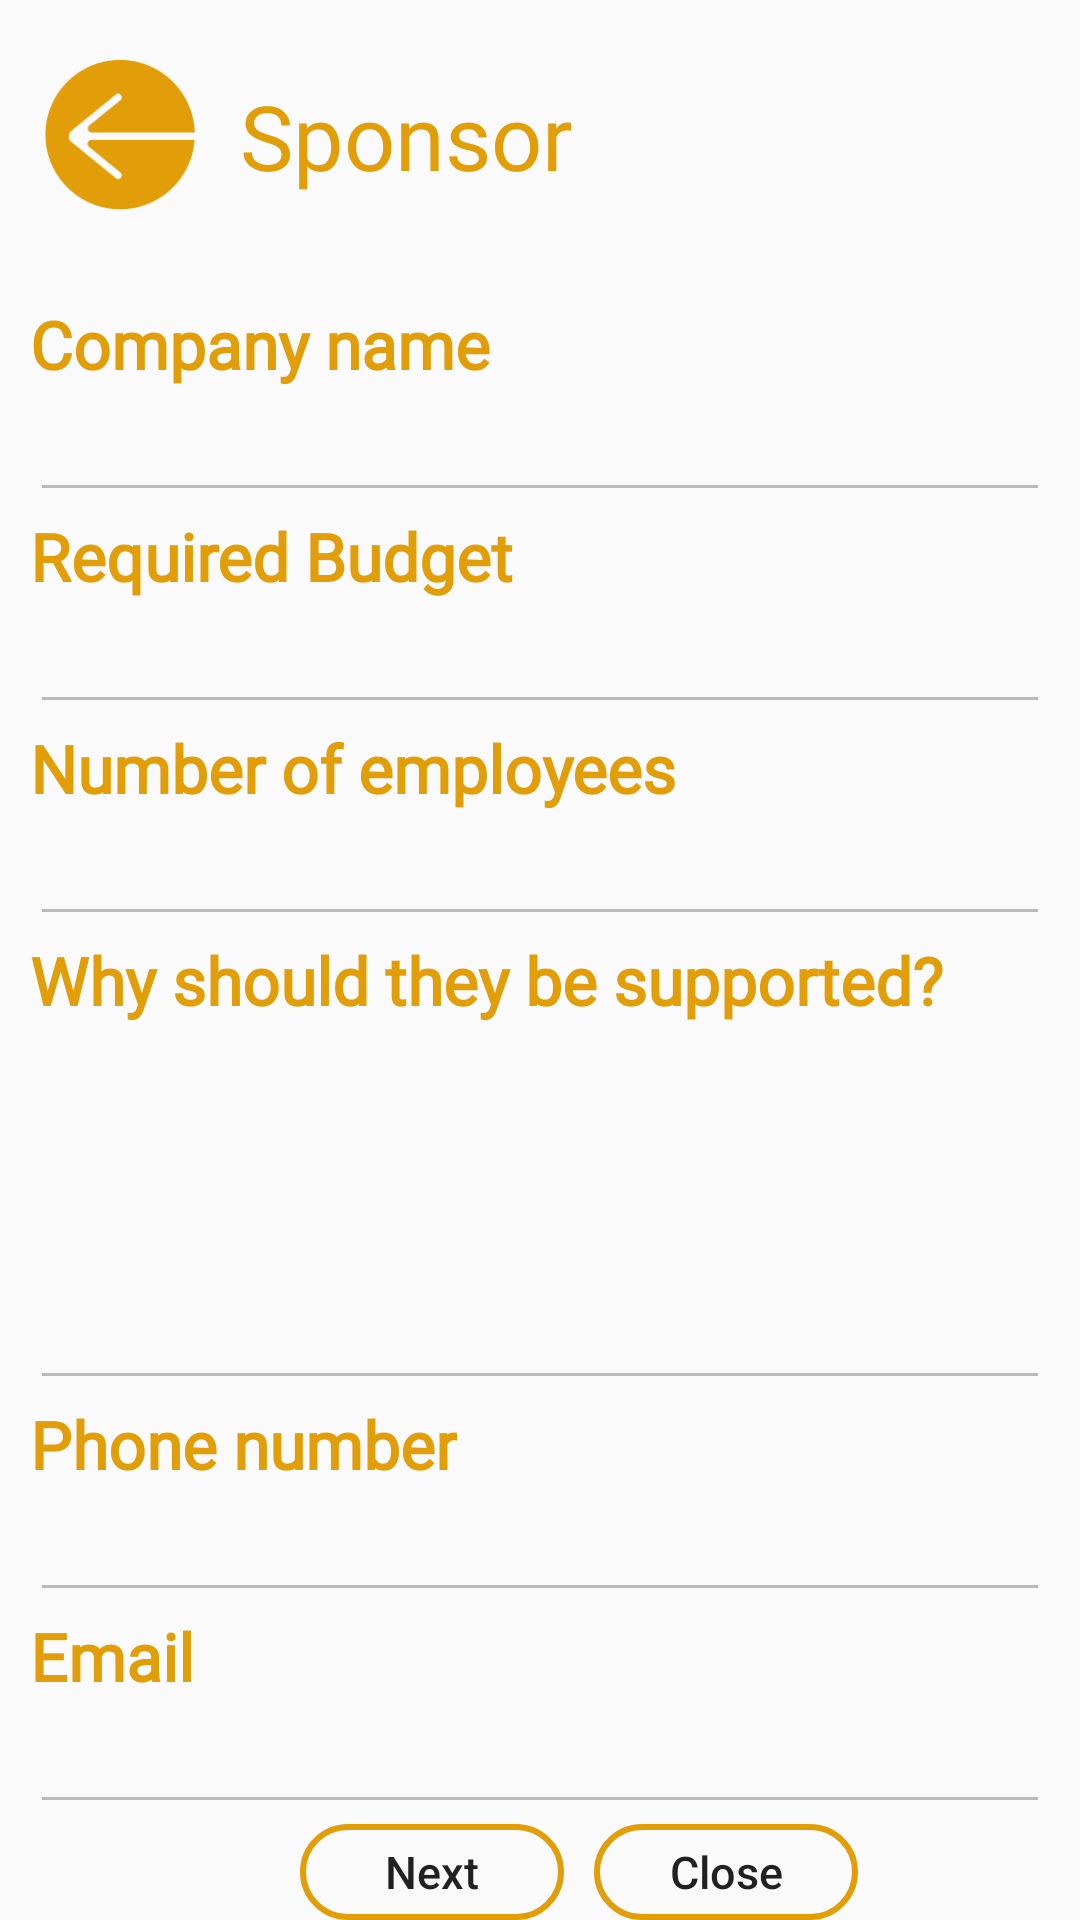

Icon bounding boxes for this 1080px×1920px phone screenshot, format (x1,y1,x2,y2):
back: (45,60,195,210)
